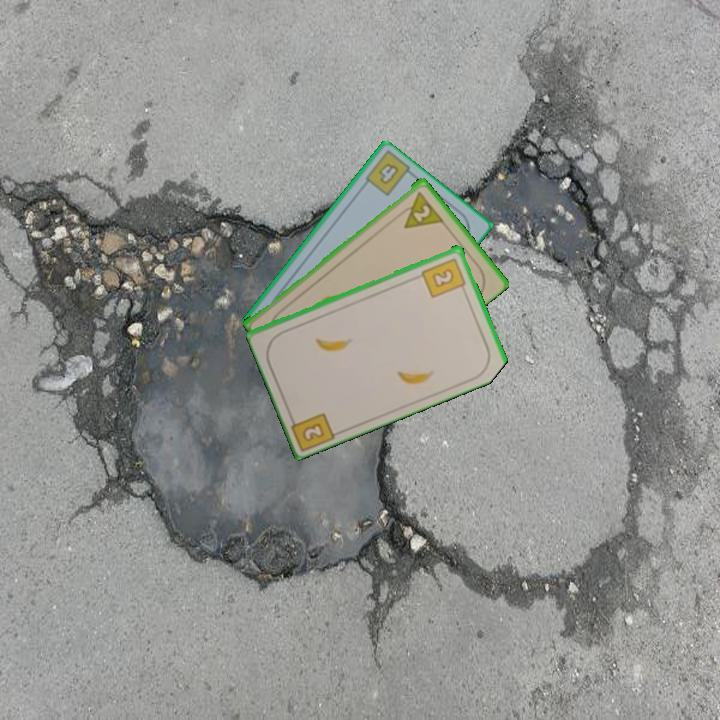2b: (418, 254, 469, 300), (286, 409, 339, 452)
2p: (410, 201, 433, 225)
4b: (375, 159, 402, 187)
